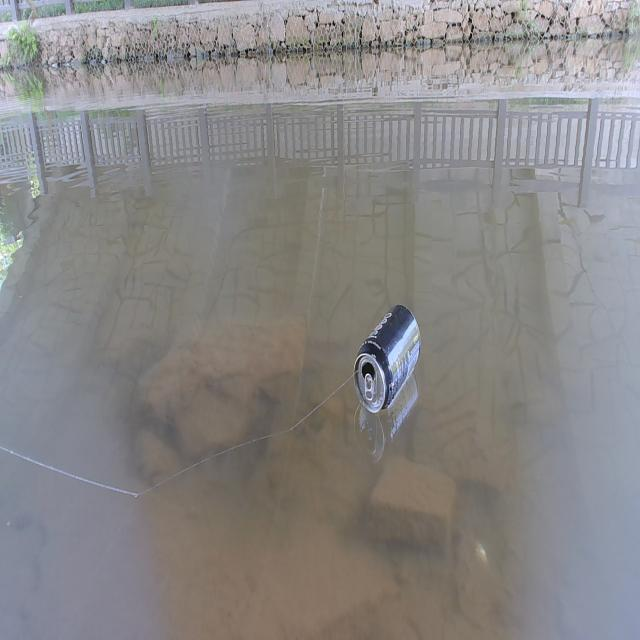garbage: (353, 302, 421, 414)
